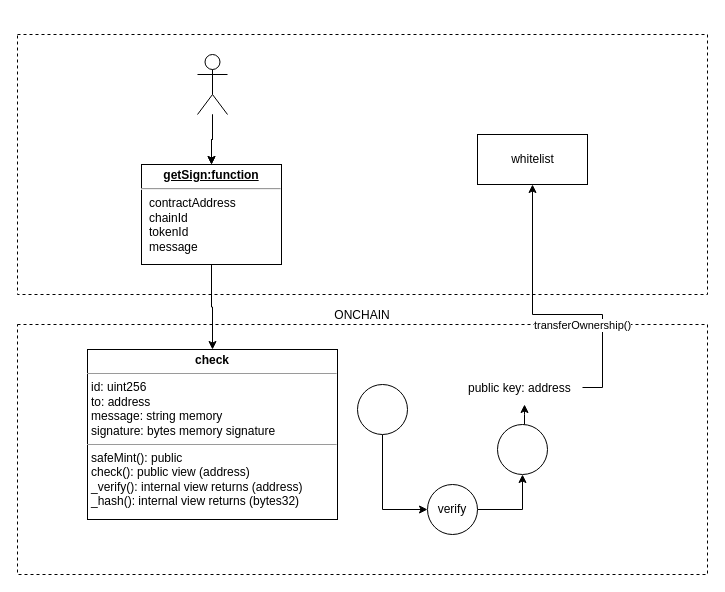
Image size: 725x592. Some labels were removed from this diagram. The box of each missing label's shape, as (x1, y1, x2, y2) in pixels:
check: (356, 384, 408, 434)
hash: (496, 424, 548, 474)
OFFCHAIN: (16, 34, 708, 294)
